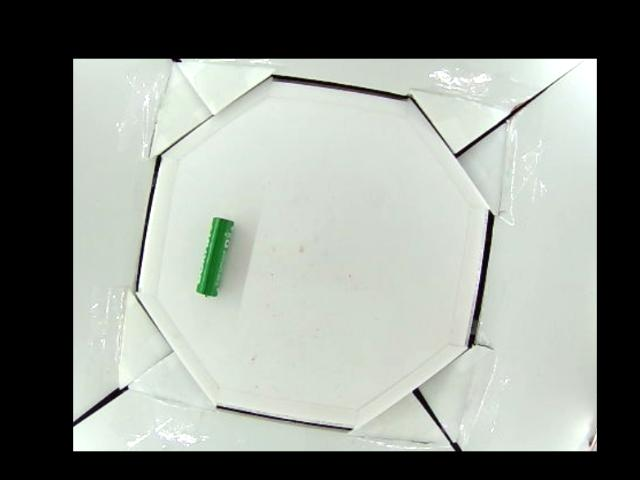Battery: (195, 215, 234, 297)
